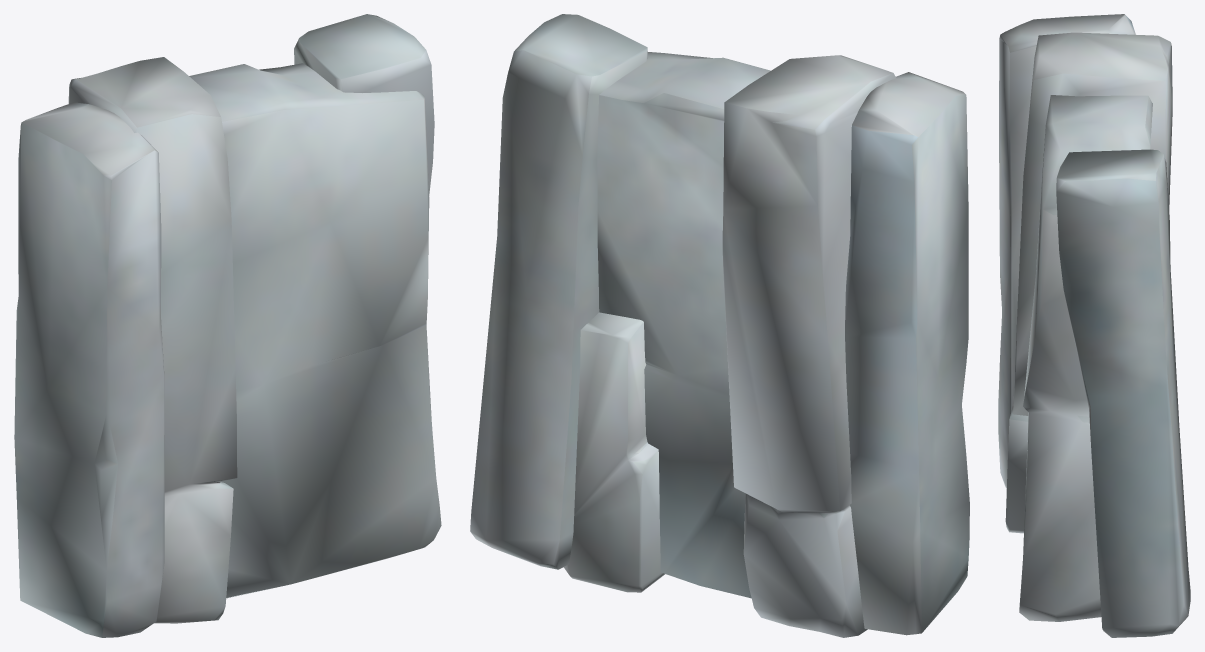
File: P_CubicCliff01.obj
3 renders of one model, left to right at view 1: azimuth 30°, elevation 25°; view 2: azimuth 150°, elevation 25°; view 3: azimuth 270°, elevation 25°, orthographic. The views are drawn at different scales.
Size of the model in its own units: 18.75 by 22.21 by 8.14.
